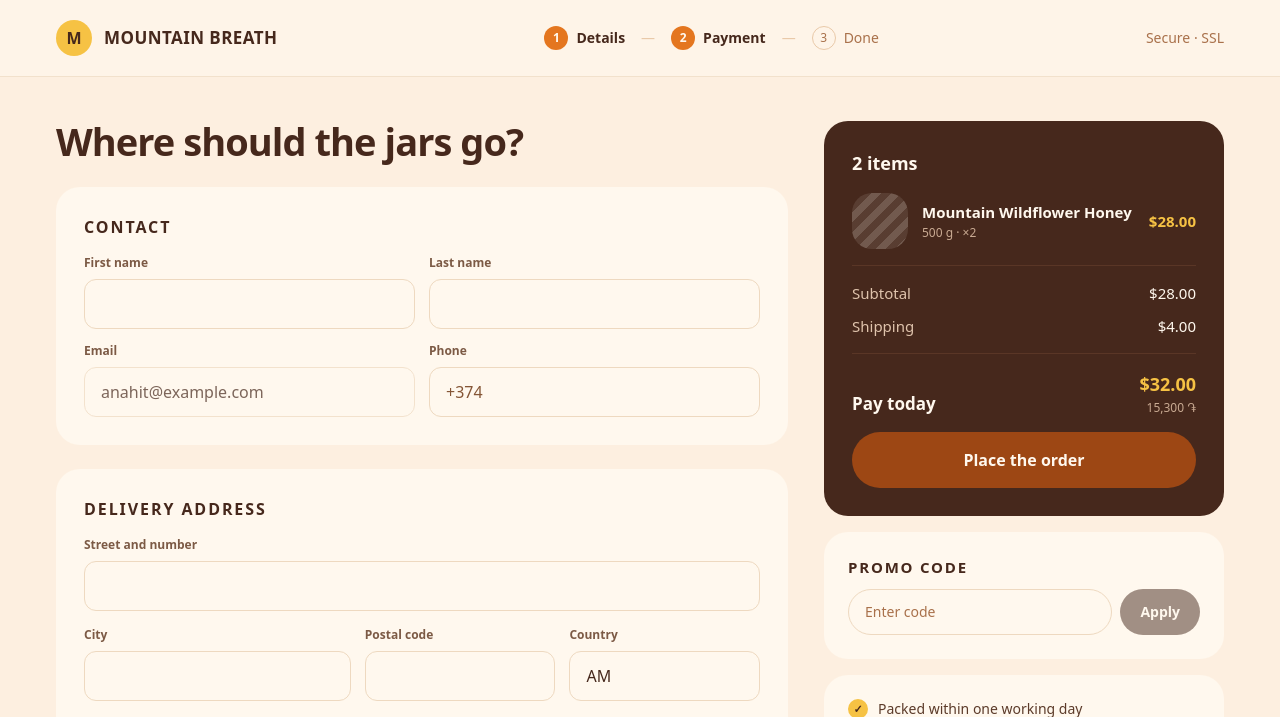
Test: CheckoutPage › an empty submit fails client-side with the server’s field keys — and no request
Expected: the heading "Where should the jars go?" is shown, 56,115 -> 523,167
Click the button "Place the order".
click(1024, 460)  # box 852,432 -> 1196,488
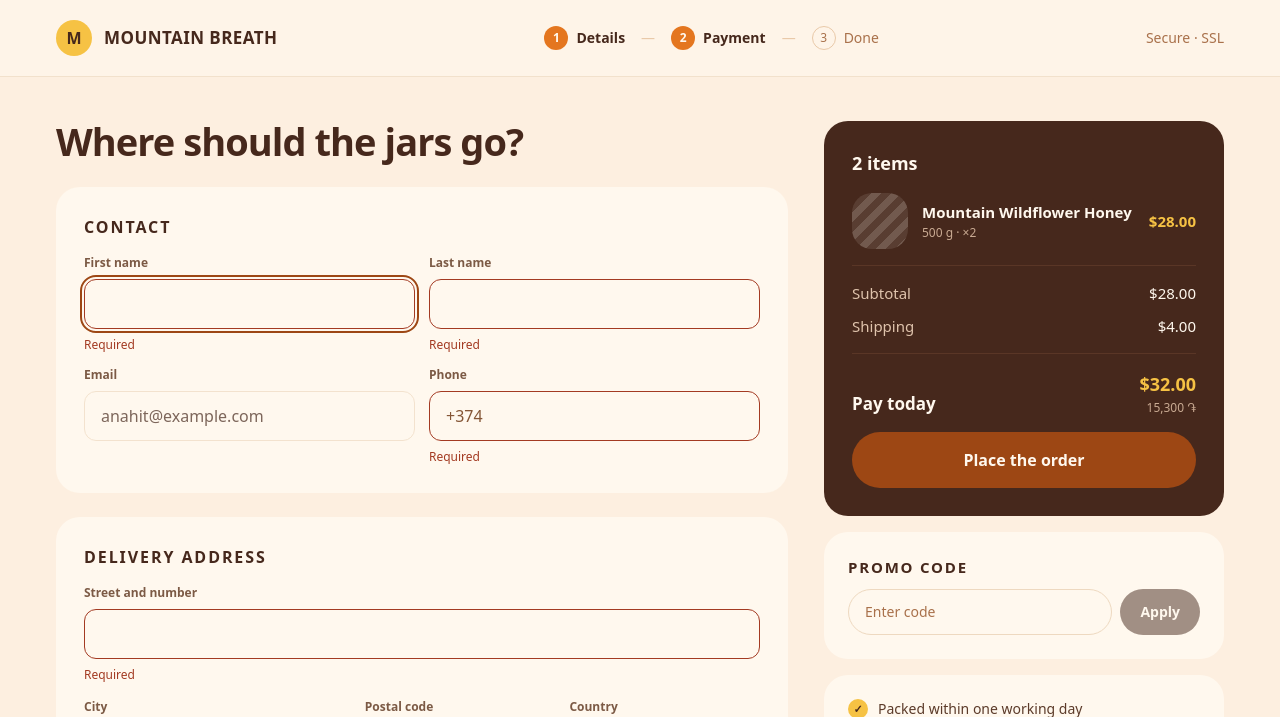
Result: the number of messages is 6
